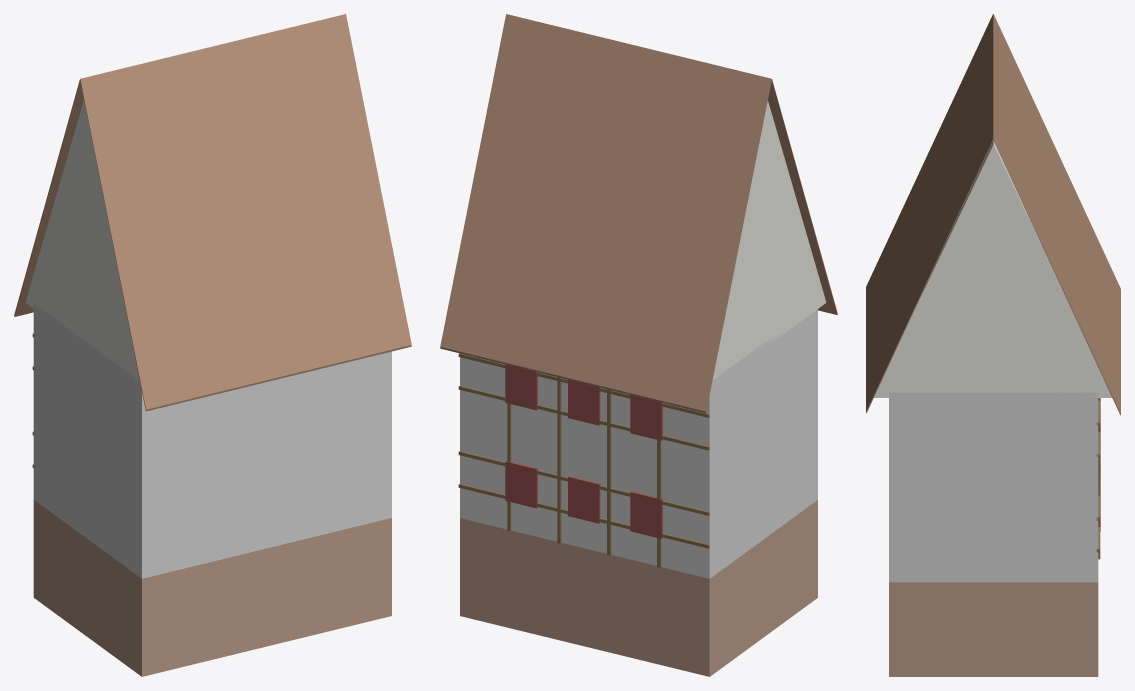
Rendered from house2.fbx.
3 renders of one model, left to right at view 1: azimuth 30°, elevation 25°; view 2: azimuth 150°, elevation 25°; view 3: azimuth 270°, elevation 25°, orthographic. The views are drawn at different scales.
Parts seen in each view (by area): view 1: Roof, Base_Stone, Floor_2, Floor_3, 円柱; view 2: Roof, Base_Stone, Floor_2, Floor_3, 円柱, 立方体.013, 立方体.012, 立方体.014, 立方体.015, 立方体.016, 立方体.017, 立方体.004 (+3 smaller); view 3: Roof, 円柱, Floor_3, Floor_2, Base_Stone.
Boxes of the visible parts, <box> form: Roof: <box>14,14,411,411</box>; Base_Stone: <box>33,500,391,676</box>; Floor_2: <box>33,402,391,578</box>; Floor_3: <box>33,303,391,480</box>; 円柱: <box>25,100,140,386</box>; Roof: <box>440,14,837,413</box>; Base_Stone: <box>460,500,817,676</box>; Floor_2: <box>460,402,817,578</box>; Floor_3: <box>460,309,817,480</box>; 円柱: <box>712,100,826,380</box>; 立方体.013: <box>568,476,600,523</box>; 立方体.012: <box>630,491,662,538</box>; 立方体.014: <box>505,461,537,508</box>; 立方体.015: <box>630,395,662,440</box>; 立方体.016: <box>568,380,600,425</box>; 立方体.017: <box>505,364,537,410</box>; 立方体.004: <box>458,483,709,548</box>; Roof: <box>866,14,1120,415</box>; 円柱: <box>874,140,1111,397</box>; Floor_3: <box>889,392,1098,487</box>; Floor_2: <box>889,487,1098,582</box>; Base_Stone: <box>889,582,1098,676</box>.
Bounding box in the file's own units: 851 × 1714 × 731.
